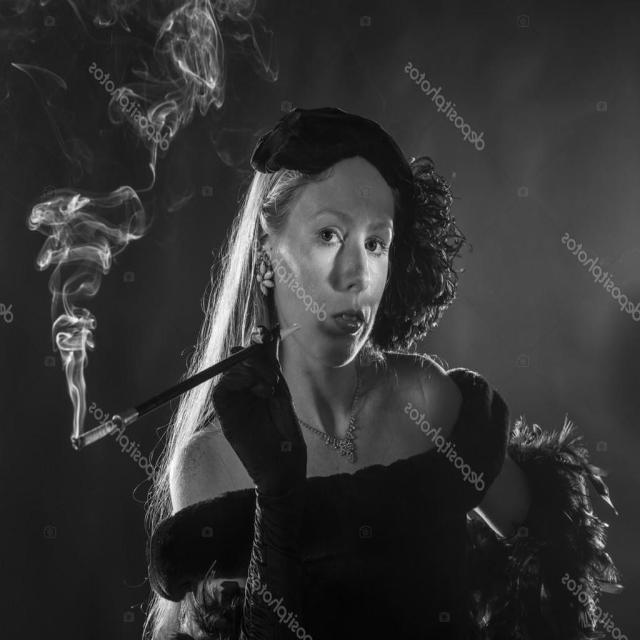smoking: (38, 278, 359, 512)
